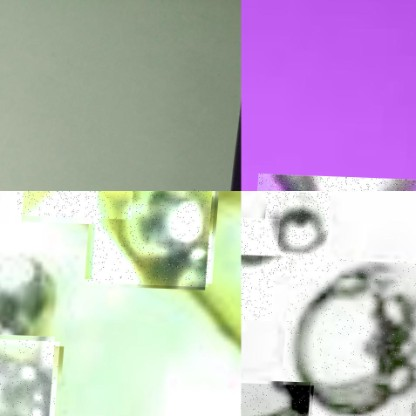ironball: (283, 255, 415, 415), (0, 242, 58, 359), (114, 190, 202, 258), (0, 336, 64, 415), (272, 204, 327, 260), (241, 381, 317, 415), (169, 243, 211, 291)
